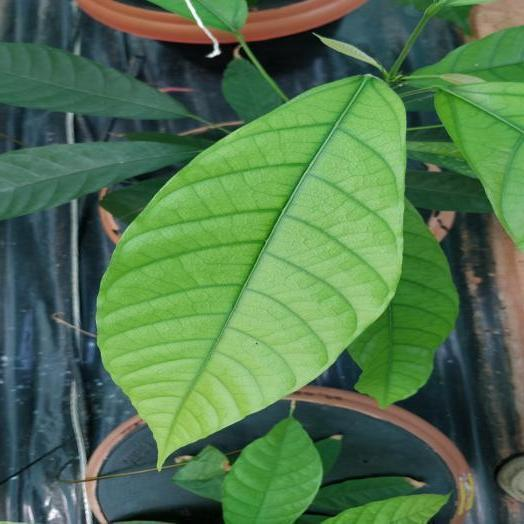Healthy Leaf: (0, 141, 203, 219), (0, 42, 193, 119), (223, 416, 322, 523)
Iron: (98, 75, 405, 466), (348, 203, 457, 406), (435, 82, 523, 248)
